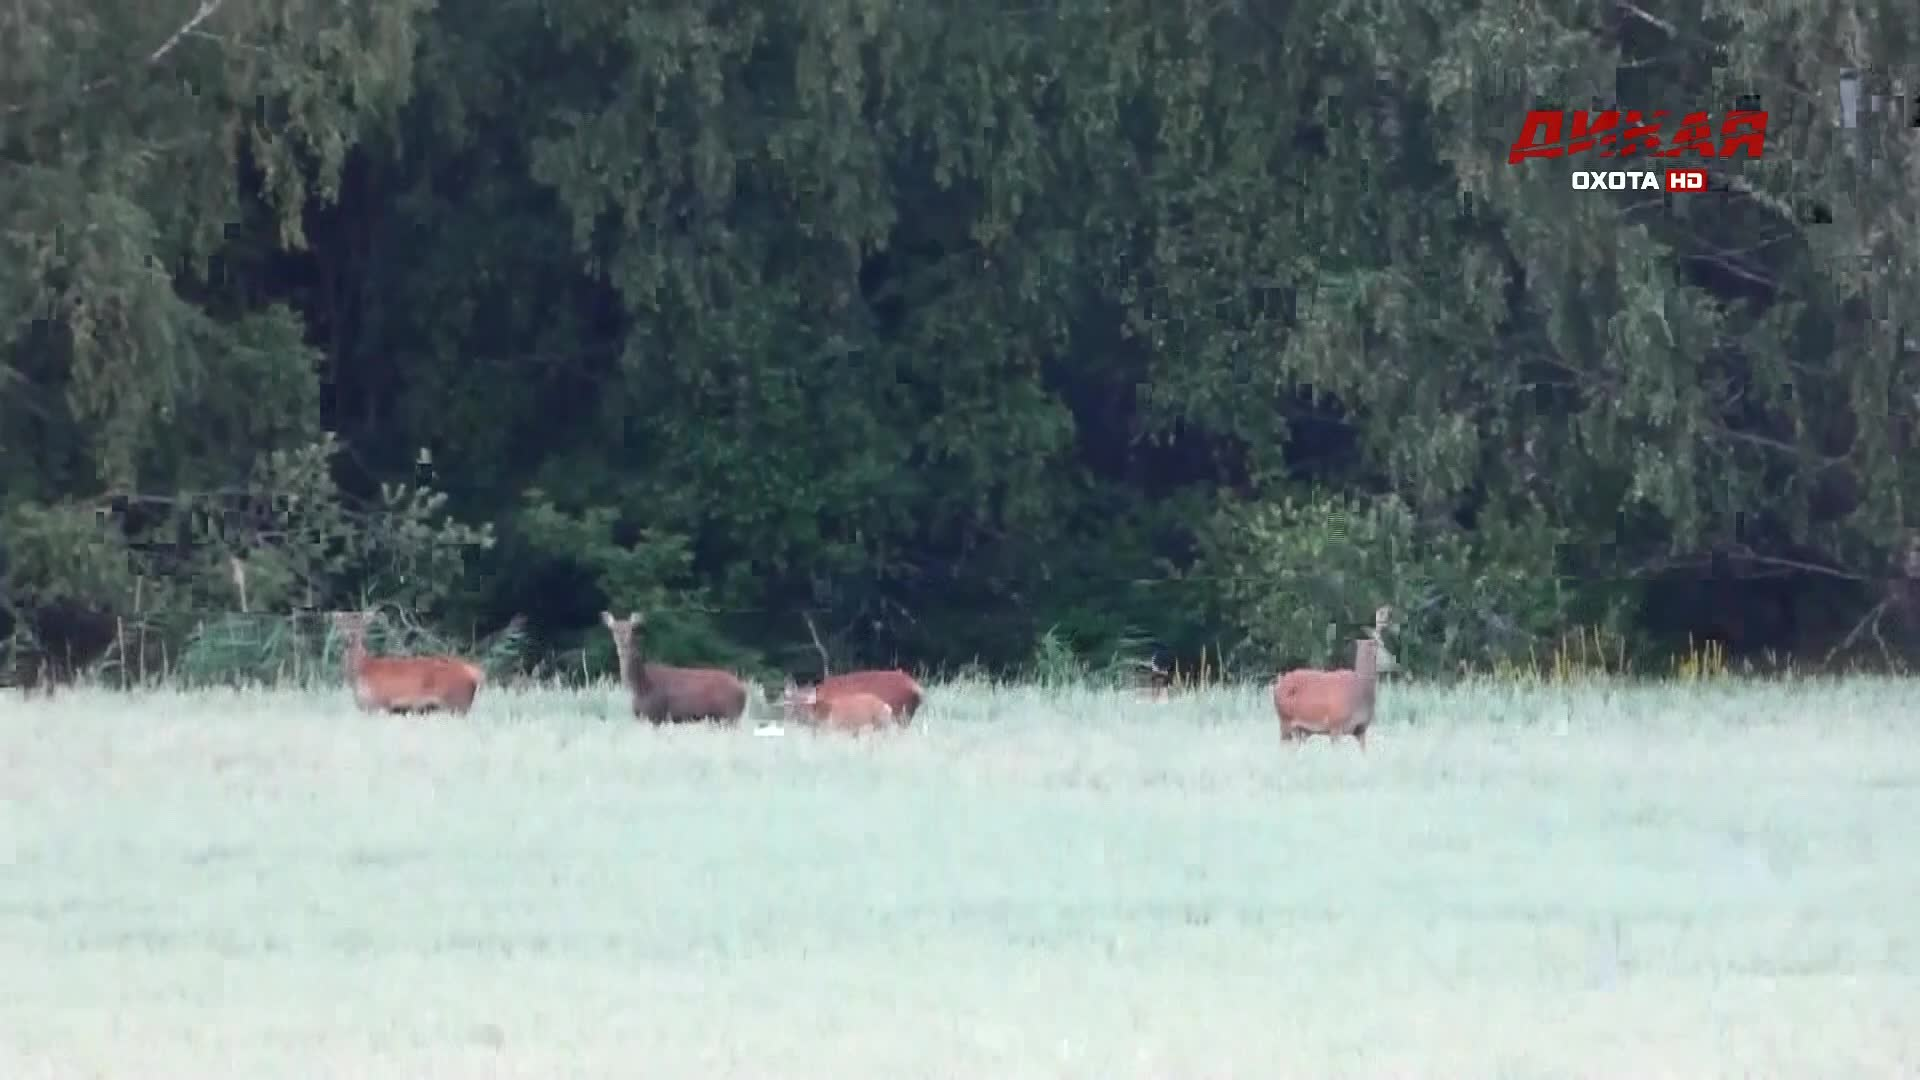Dikaya_Ohota_HD: (1507, 105, 1774, 200)
